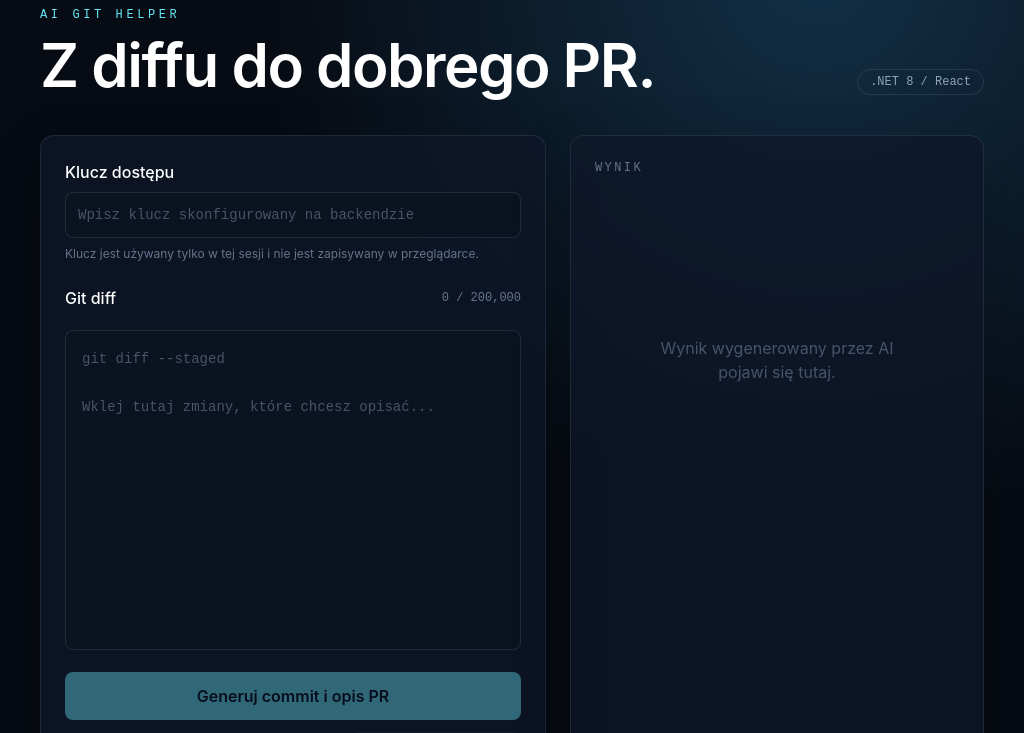
Test: App › sends the access key and diff and displays the result
Type "test-key" into the password field labelled "Klucz dostępu" at (293, 215), box x1=65 y1=192 x2=521 y2=238
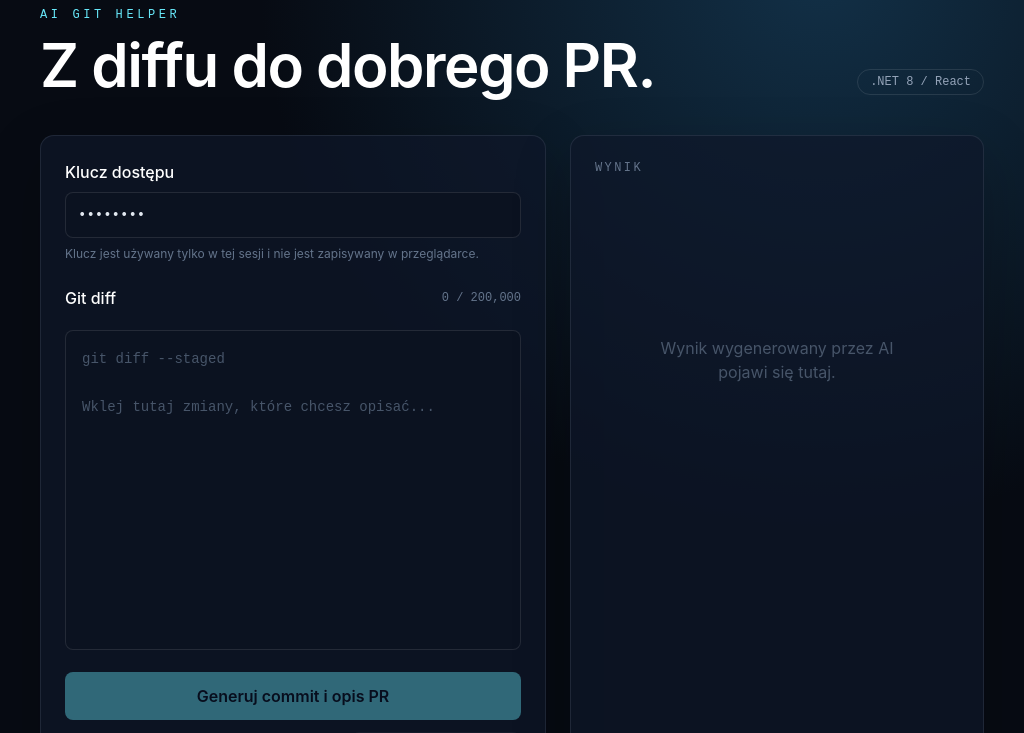
Type "diff --git a/file b/file" into the text box labelled "Git diff" at (293, 490), box x1=65 y1=330 x2=521 y2=650
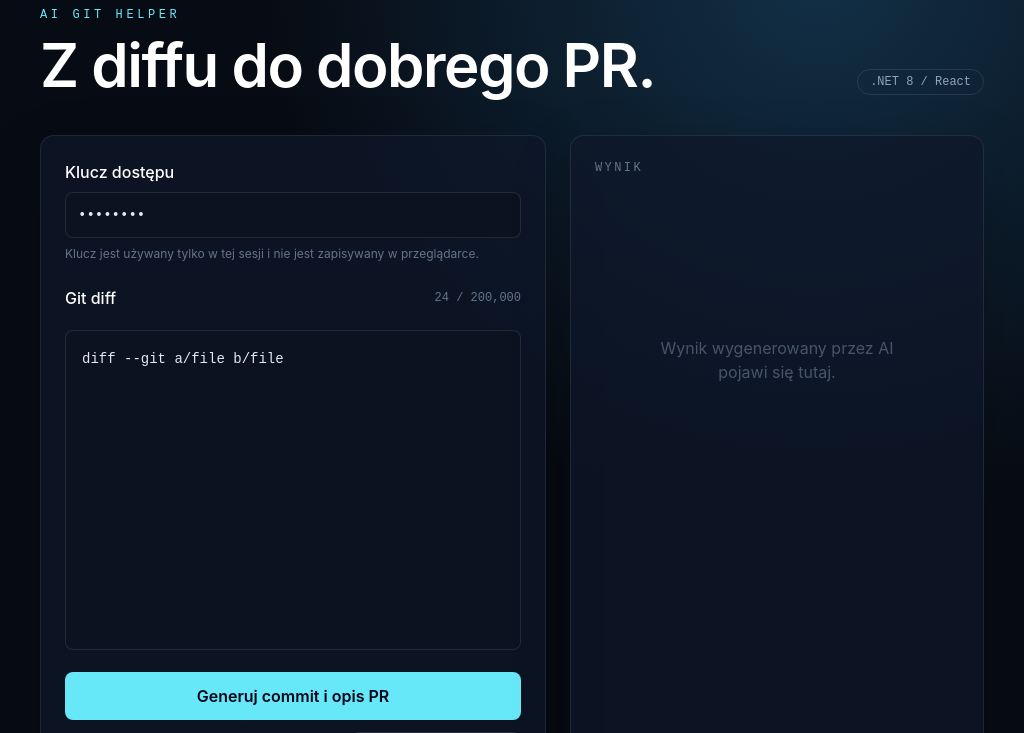
Click the button "Generuj commit i opis PR" at (293, 696), box x1=65 y1=672 x2=521 y2=720
(page scrolled)
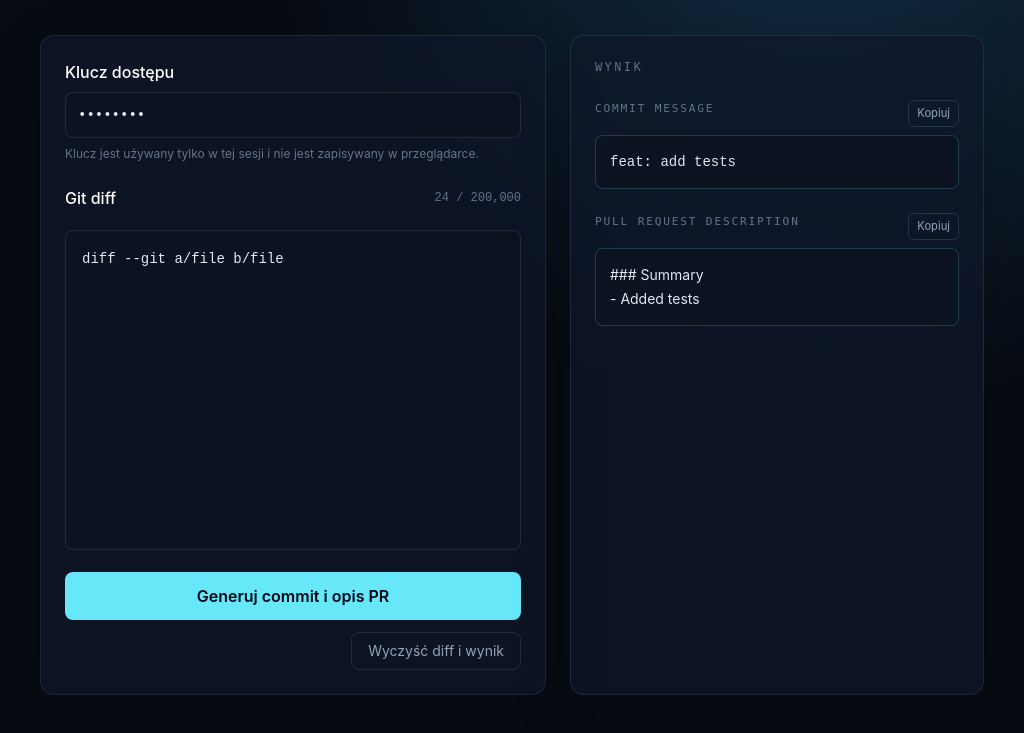
Expected: the text "feat: add tests" is shown, x1=595 y1=135 x2=959 y2=189
Click the button "Wyczyść diff i wynik" at (436, 651), box x1=351 y1=632 x2=521 y2=670
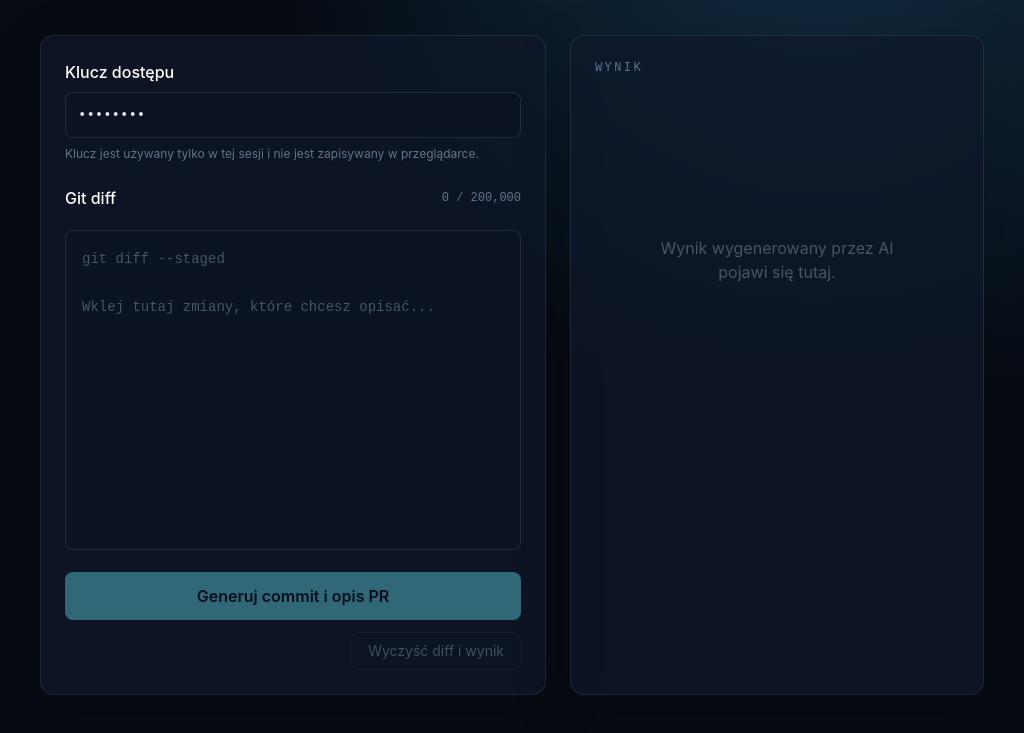
Expected: the text box labelled "Git diff" is empty, x1=65 y1=230 x2=521 y2=550
Expected: the text "feat: add tests" is gone
